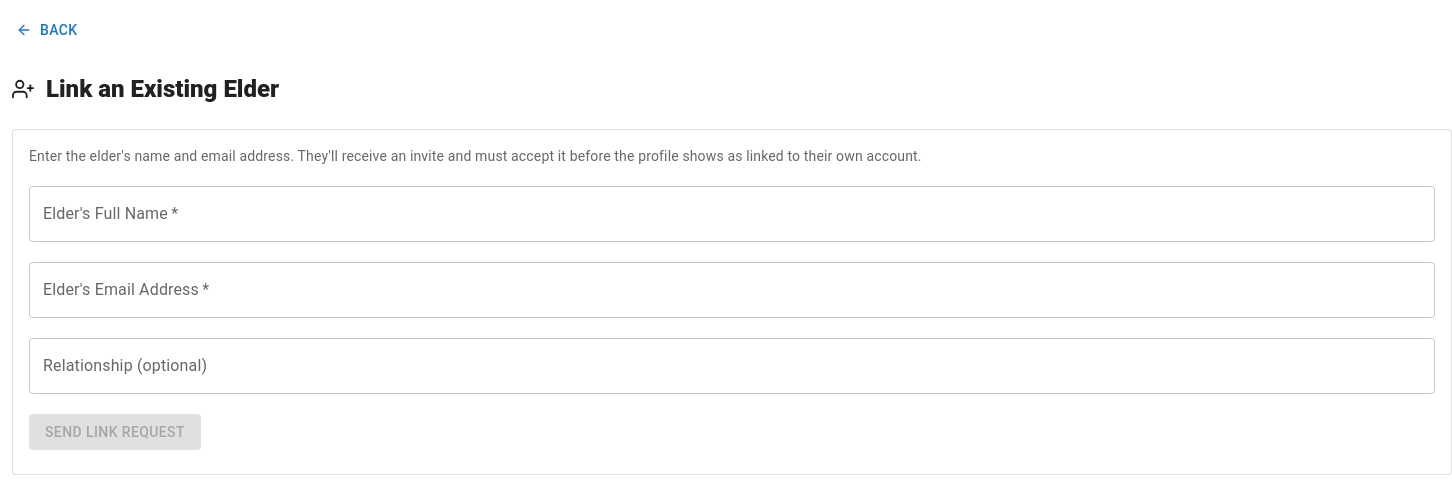
Test: LinkElderProfile.page › the submit button is disabled until a name and email are entered
Expected: the button "Send Link Request" is disabled, [29,414,201,450]
Type "Grandma Rose" into the field labelled "Elder's Full Name *". click: [732, 214]
box: [29,186,1435,242]
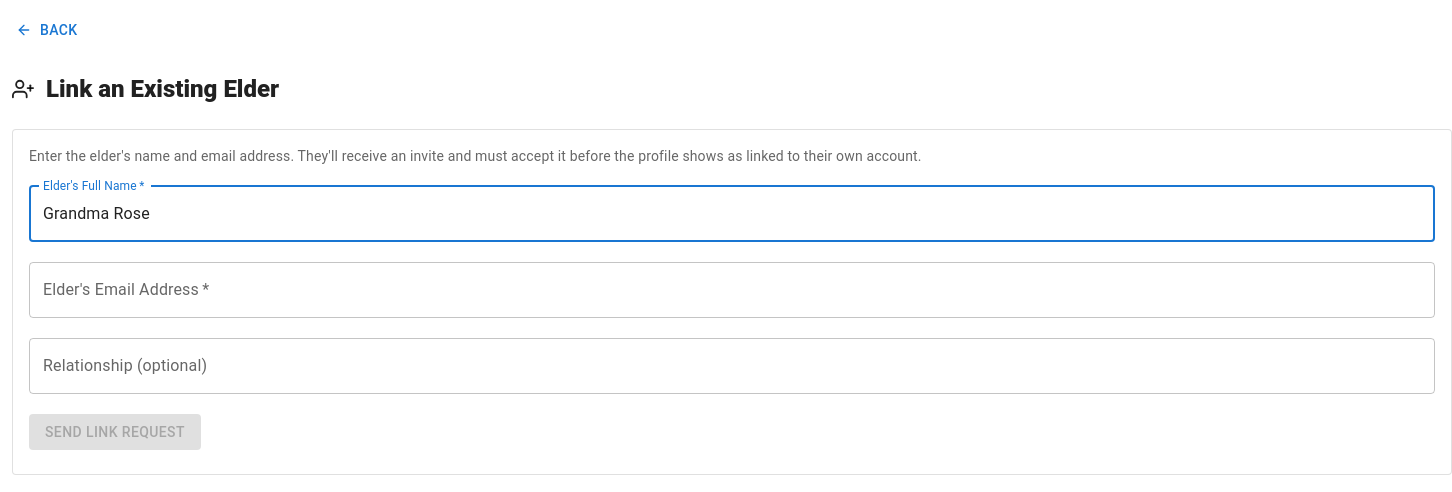
Expected: the button "Send Link Request" is disabled, [29,414,201,450]
Type "rose@example.com" into the field labelled "Elder's Email Address *". click: [732, 290]
box: [29,262,1435,318]
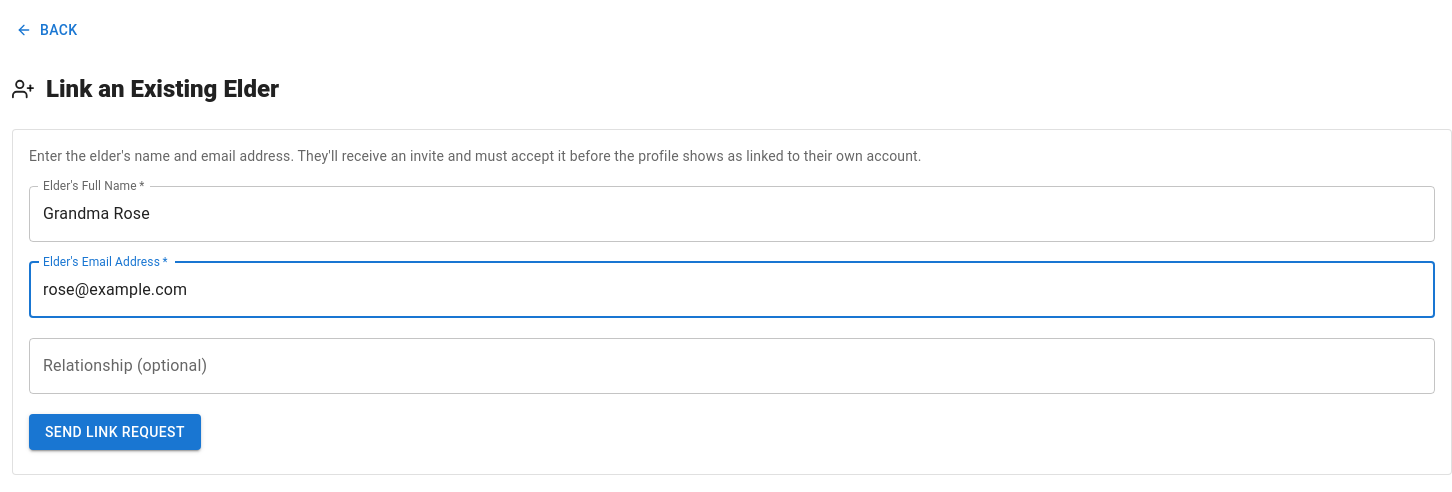
Result: the button "Send Link Request" is enabled at [29,414,201,450]
